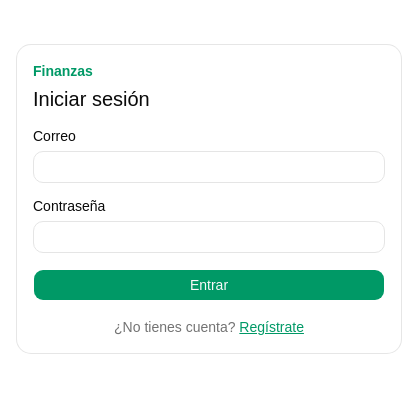
Test case: LoginPage › shows validation errors in Spanish on empty submit
The width and height of the screenshot is (419, 399).
Click the button "Entrar" at (209, 285), box [33,269,385,301]
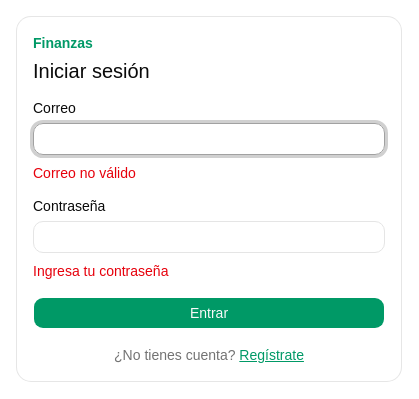
Expected: the text "Correo no válido" is shown, [33,165,136,181]
Expected: the text "Ingresa tu contraseña" is shown, [33,263,168,279]
